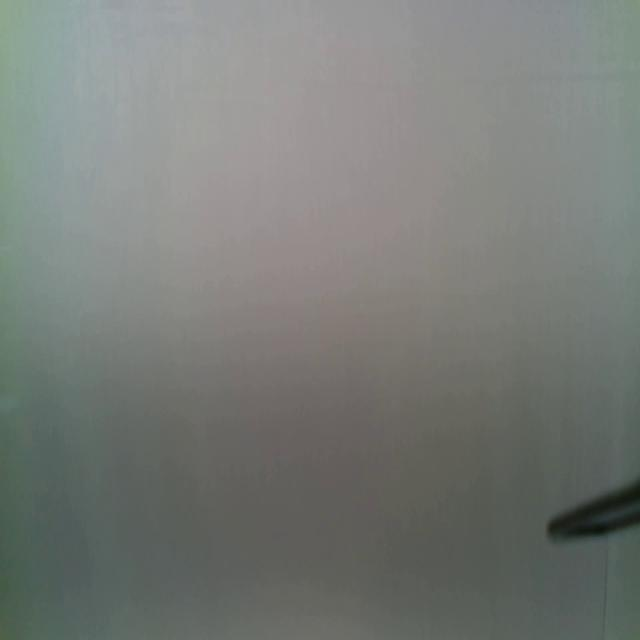crease: (600, 536, 611, 639)
